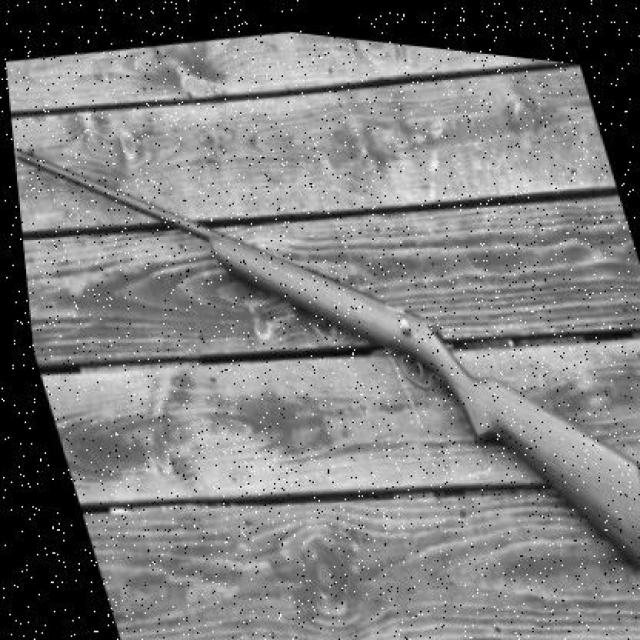weapon: (13, 147, 639, 582)
